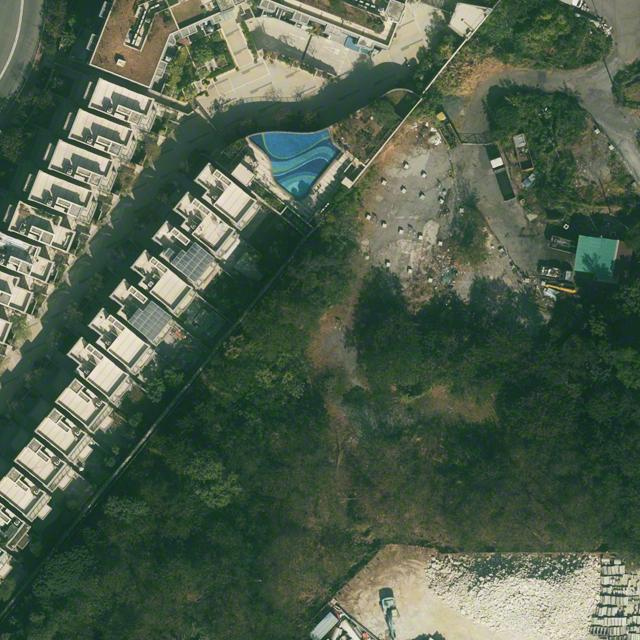panel: (175, 242, 215, 283), (132, 301, 172, 342), (170, 249, 186, 267), (128, 308, 143, 325), (163, 249, 173, 259)
